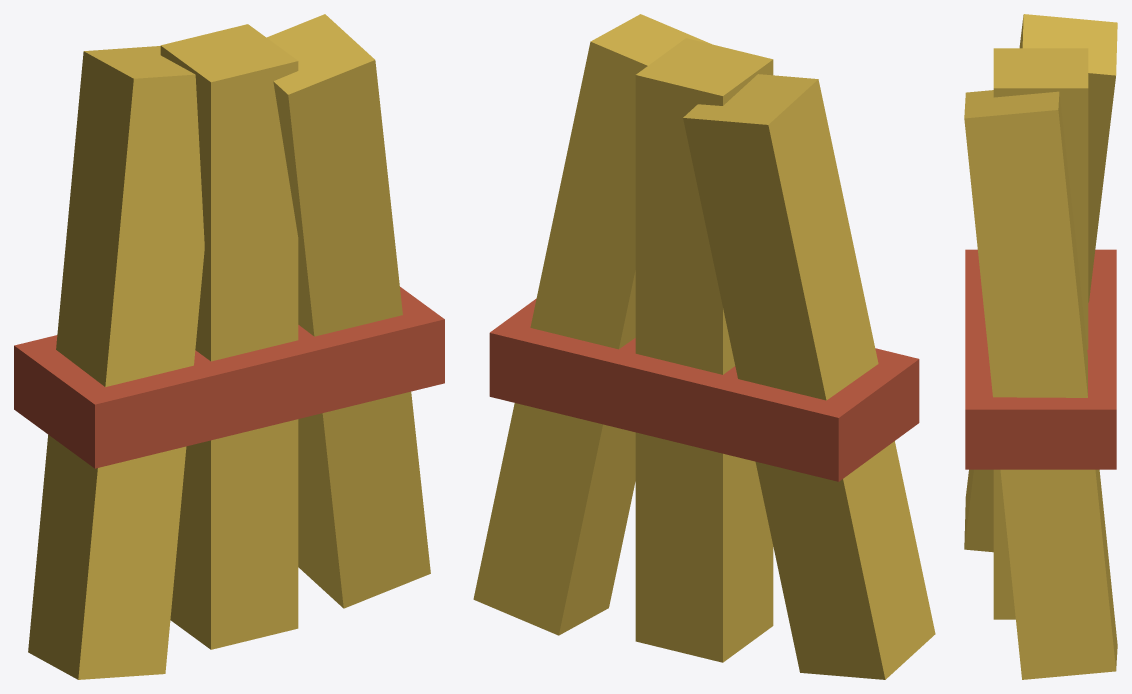
The model's file is item_paddy.glb.
3 renders of one model, left to right at view 1: azimuth 30°, elevation 25°; view 2: azimuth 150°, elevation 25°; view 3: azimuth 270°, elevation 25°, orthographic. The views are drawn at different scales.
Visible parts, largest first — view 1: item_paddy; view 2: item_paddy; view 3: item_paddy.
Part boxes in pixels (x1=…): item_paddy: x1=14, y1=14, x2=444, y2=679; item_paddy: x1=473, y1=14, x2=935, y2=679; item_paddy: x1=964, y1=14, x2=1117, y2=679.
Size of the model in its own units: 0.4375 by 0.6349 by 0.1622.
